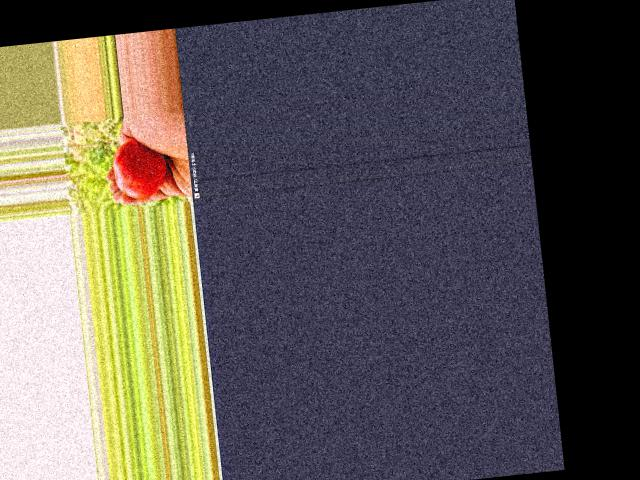tomato: (111, 136, 169, 200)
